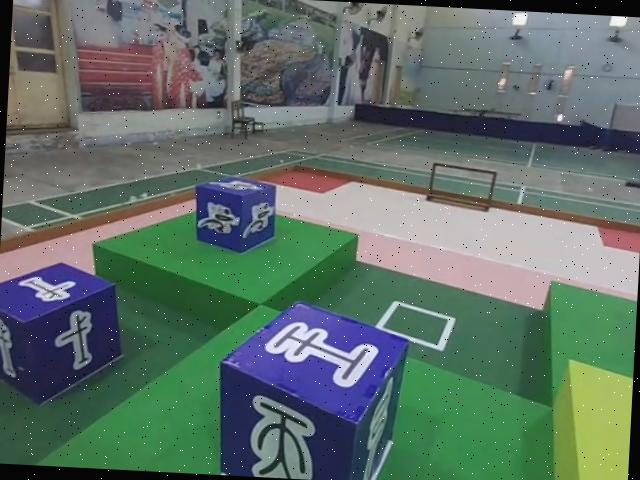R1 Blue: (191, 175, 278, 256)
R2 Fake Blue: (214, 297, 410, 480)
R2 Real Blue: (0, 258, 125, 407)
